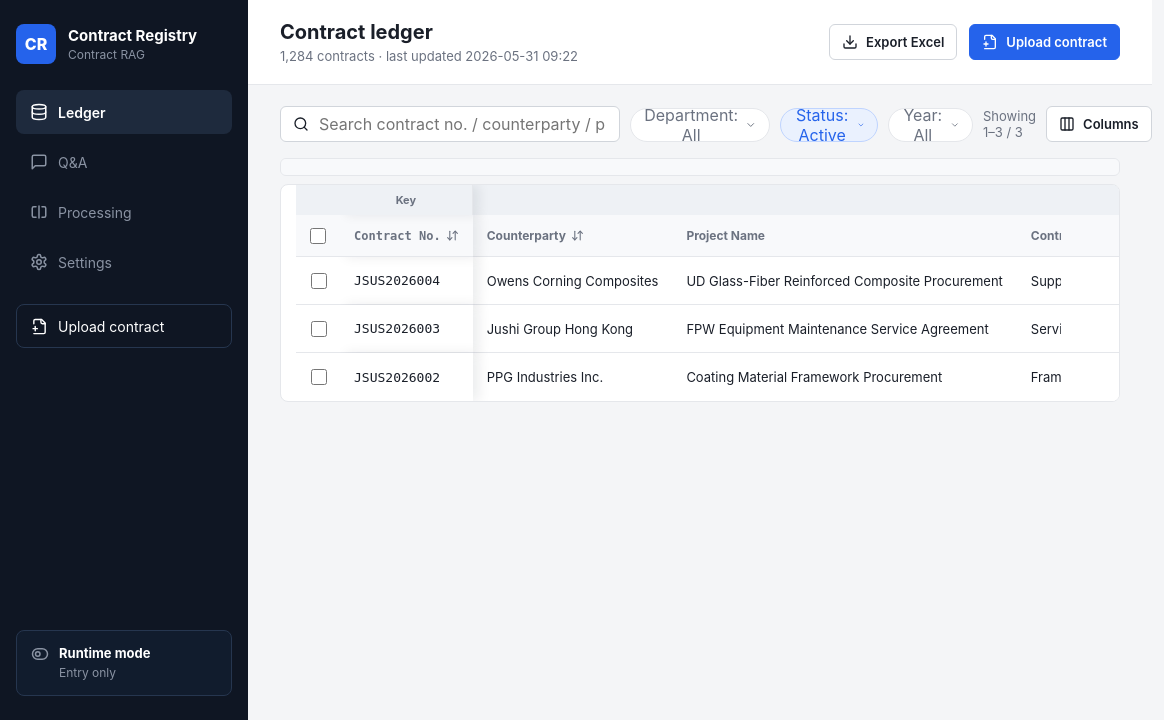
Test: Contract-RAG frontend › filters ledger rows with multi-select chips
The image size is (1164, 720).
Expected: the text "Owens Corning Composites" is shown, x1=473 y1=257 x2=672 y2=305
Click the button with aria-label "Department filter" at (700, 125), box x1=630 y1=108 x2=770 y2=142
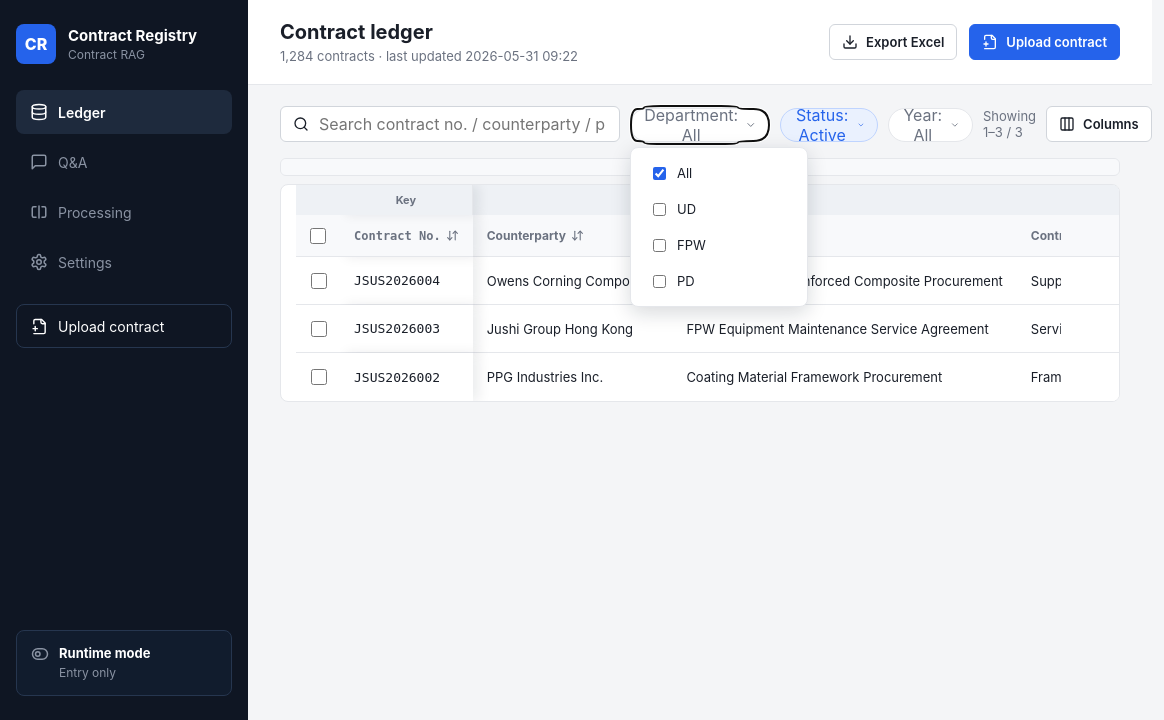
Click the checkbox labelled "FPW" at (660, 245), box x1=653 y1=238 x2=666 y2=252
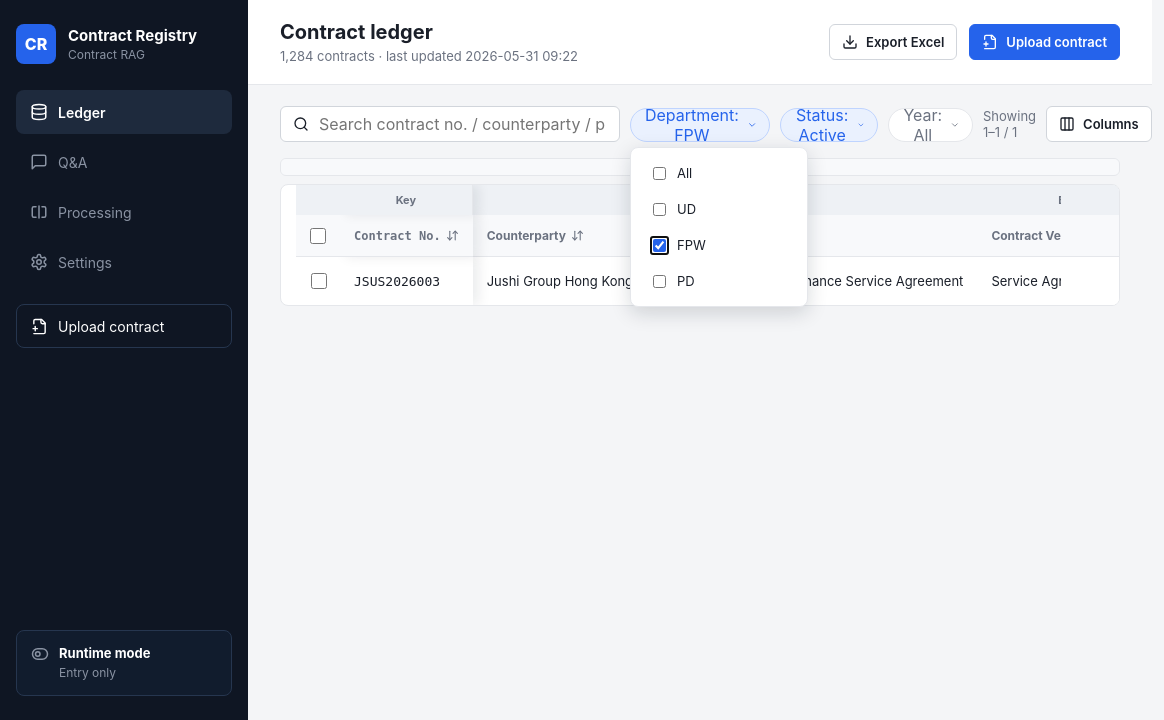
Expected: the text "Jushi Group Hong Kong" is shown, x1=473 y1=257 x2=647 y2=305
Now the text "FPW" is shown, box x1=677 y1=237 x2=706 y2=253
Now the text "Owens Corning Composites" is gone
Click the checkbox labelled "PD" at (660, 281), box x1=653 y1=274 x2=666 y2=288
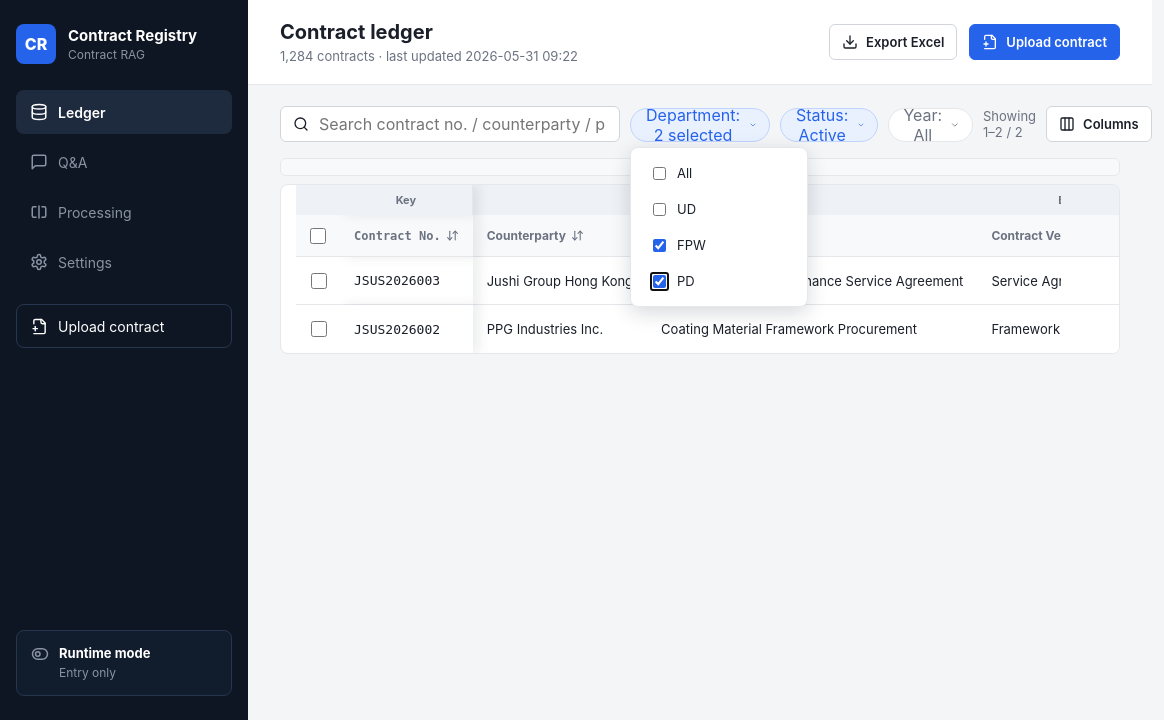
Expected: the text "Jushi Group Hong Kong" is shown, x1=473 y1=257 x2=647 y2=305
Now the button with aria-label "Department filter" reads "Department: 2 selected", box x1=630 y1=108 x2=770 y2=142
Now the text "PPG Industries Inc." is shown, box x1=473 y1=305 x2=647 y2=353
Click the checkbox labelled "All" at (660, 173), box x1=653 y1=166 x2=666 y2=180
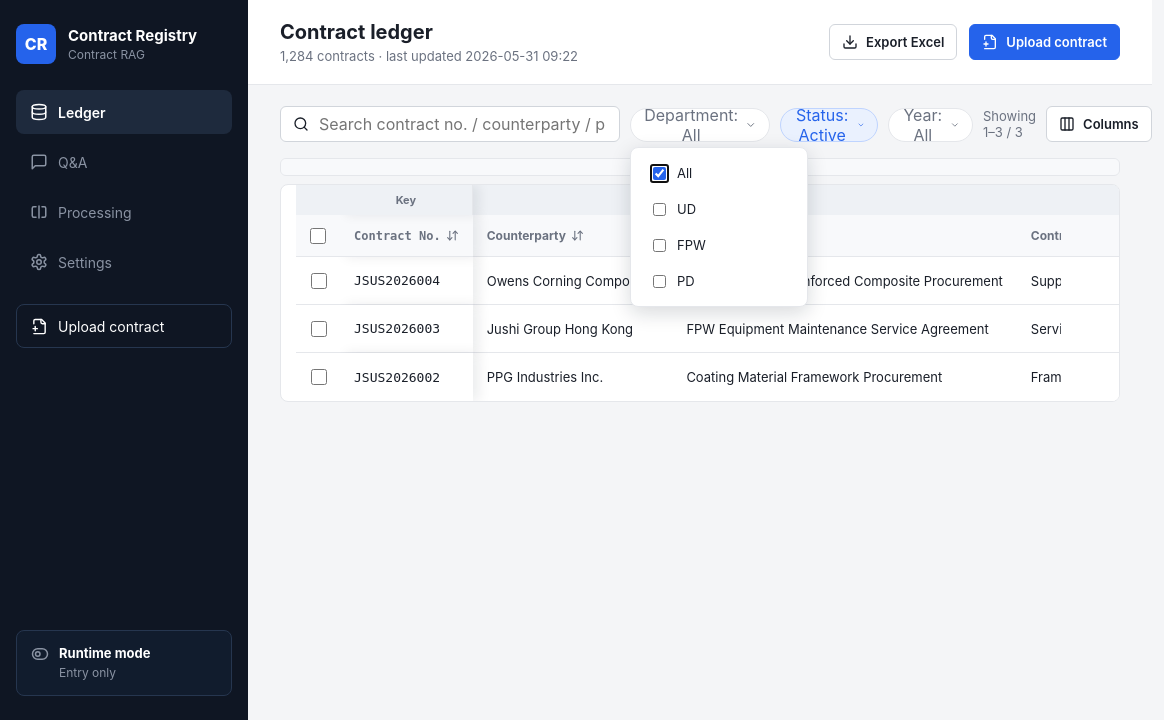
Now the text "Owens Corning Composites" is shown, box x1=473 y1=257 x2=672 y2=305
